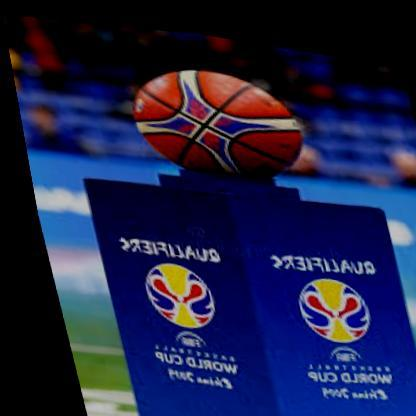basketball: (119, 48, 305, 183)
